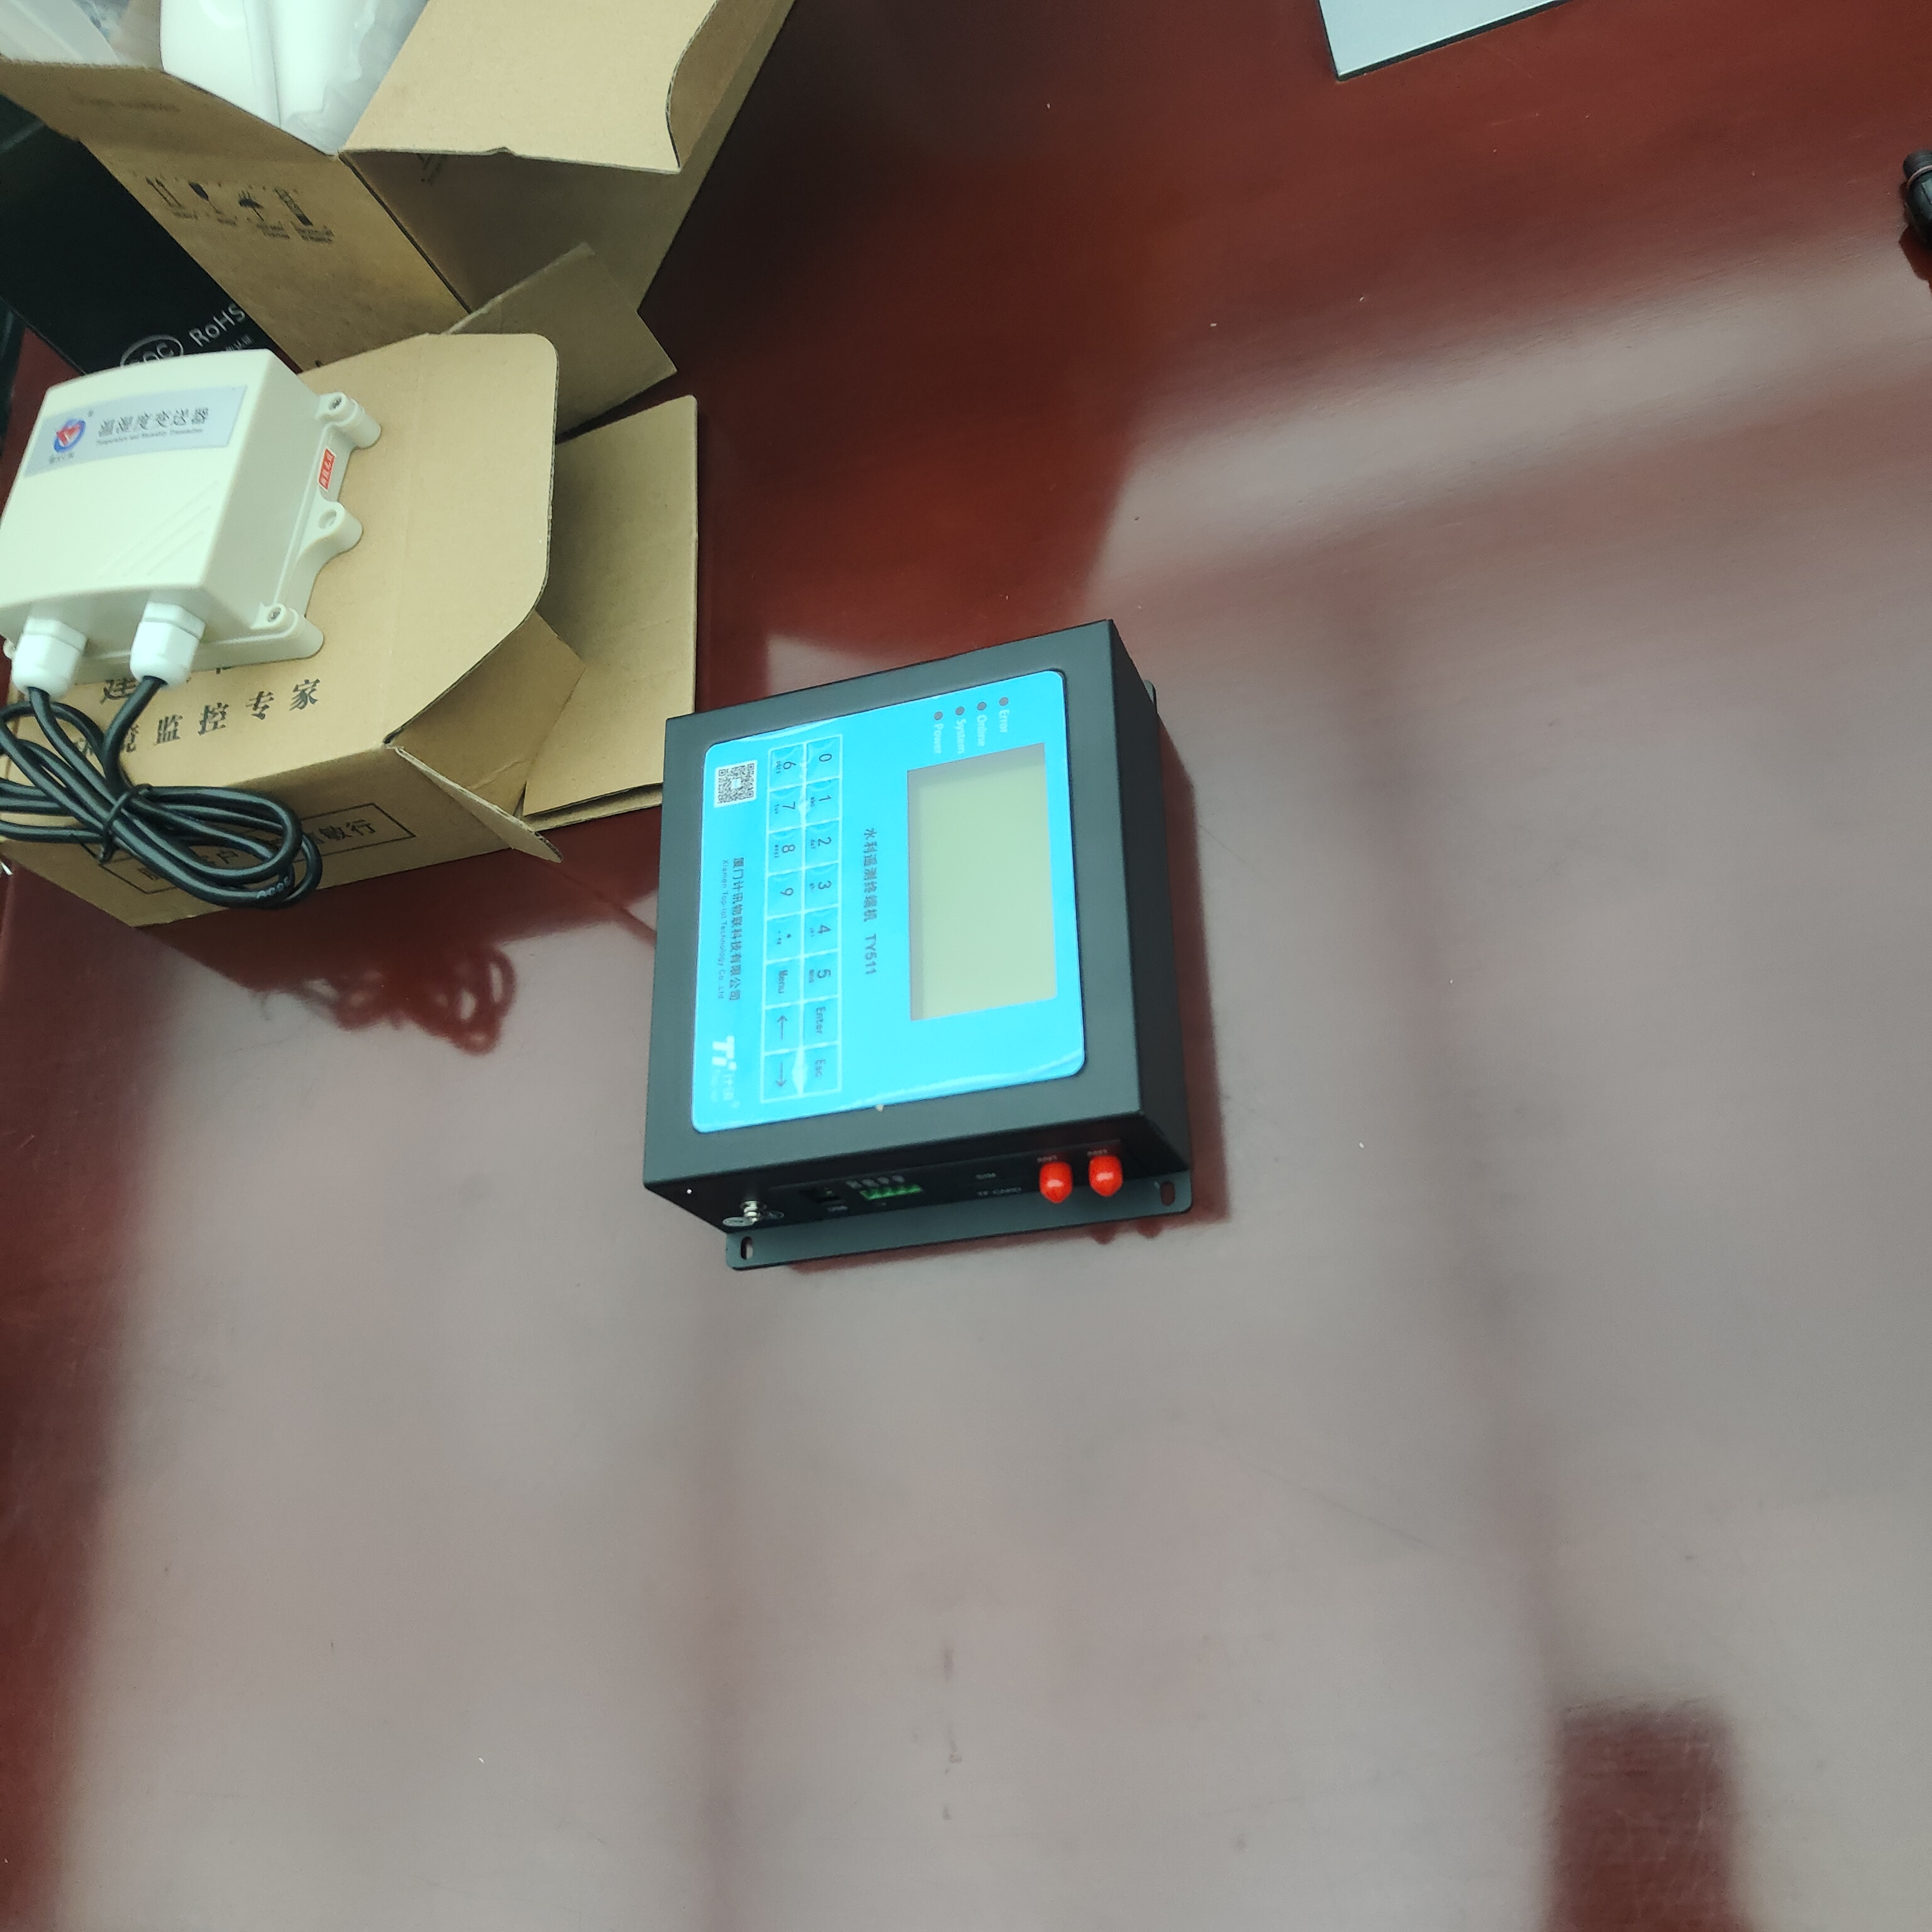slyczd: (653, 623, 1247, 1295)
wsdbsq: (2, 327, 382, 706)
